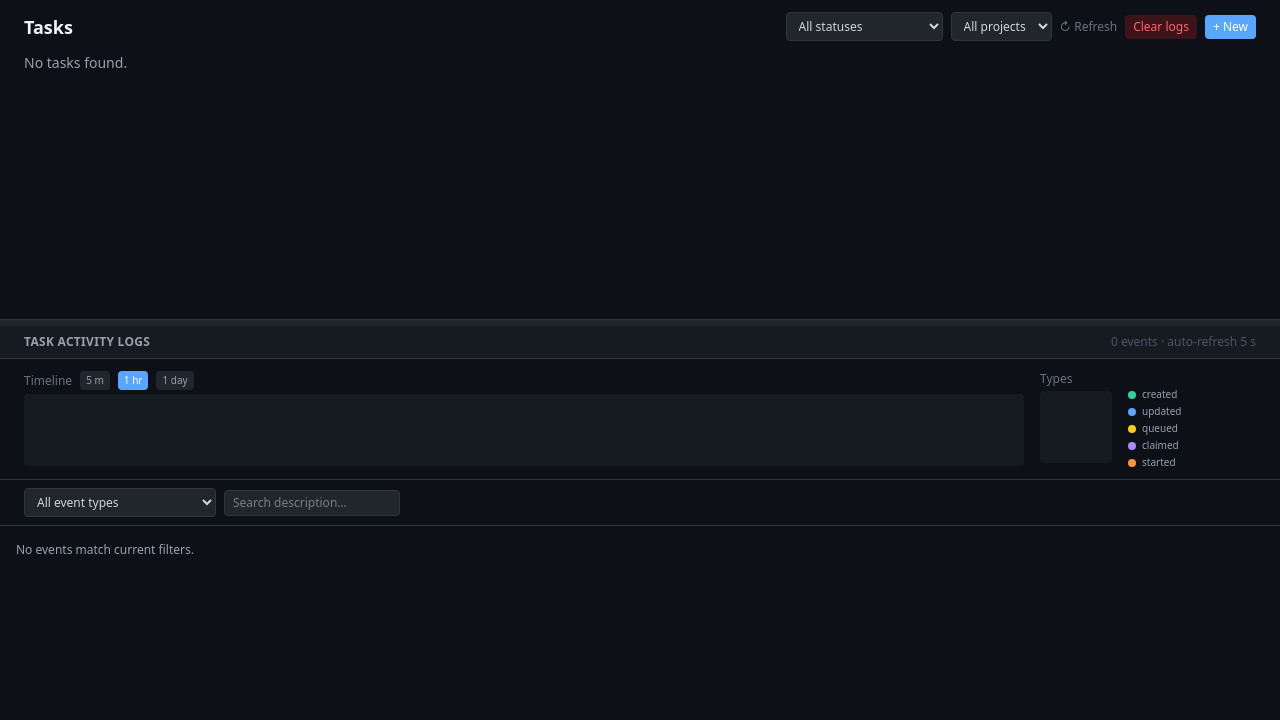
Tasks — create form › posts task with all required fields
Click the button "+ New": (1230, 26) [1205,14,1256,38]
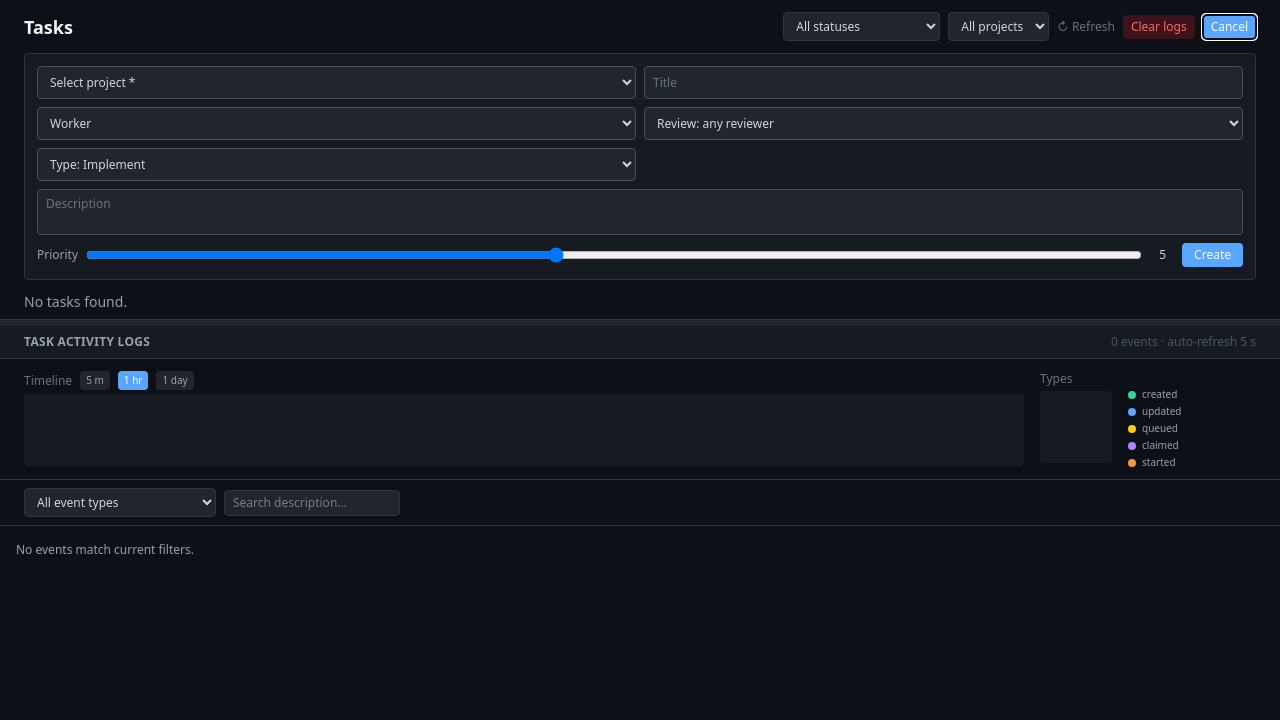
Select "MyProject" in the 3rd dropdown showing "Select project *": (336, 82) [37,66,636,99]
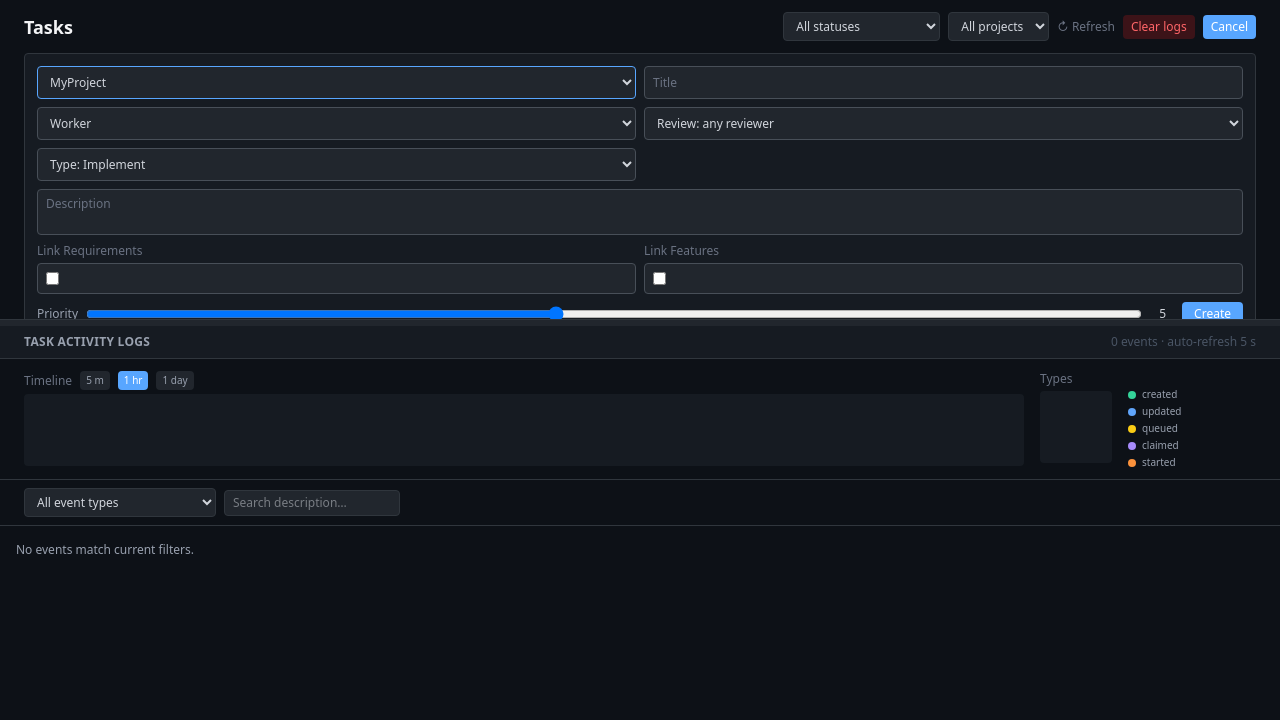
Select "Worker" in the dropdown named "Role": (336, 124) [37,107,636,140]
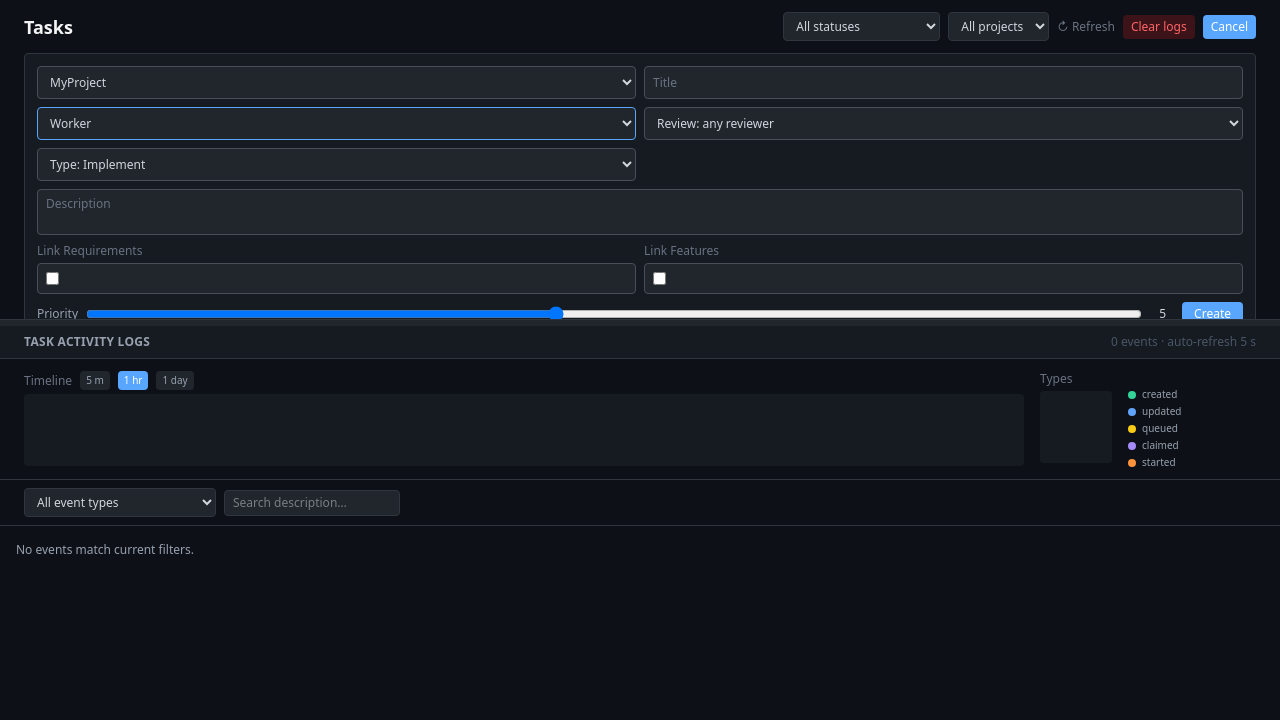
In the field with placeholder "Title": (944, 82) [644,66,1243,99], type "New task"
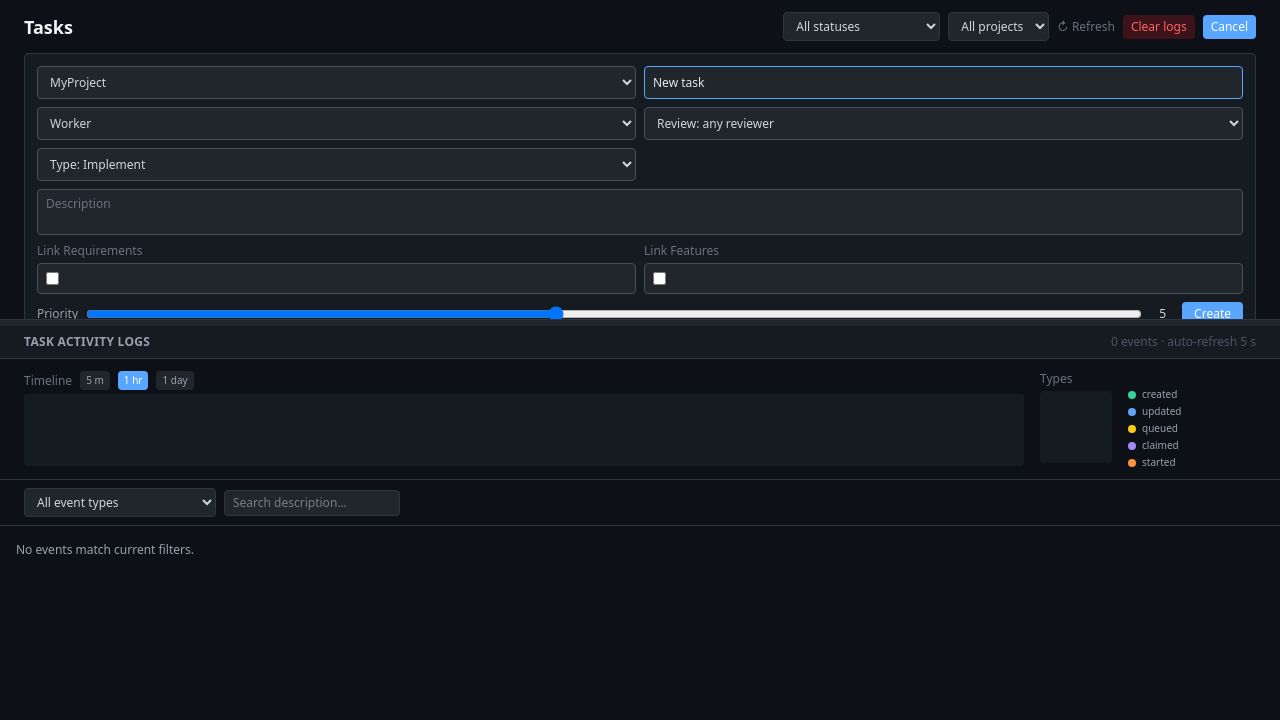
Click the button "Create": (1213, 314) [1182,302,1243,326]
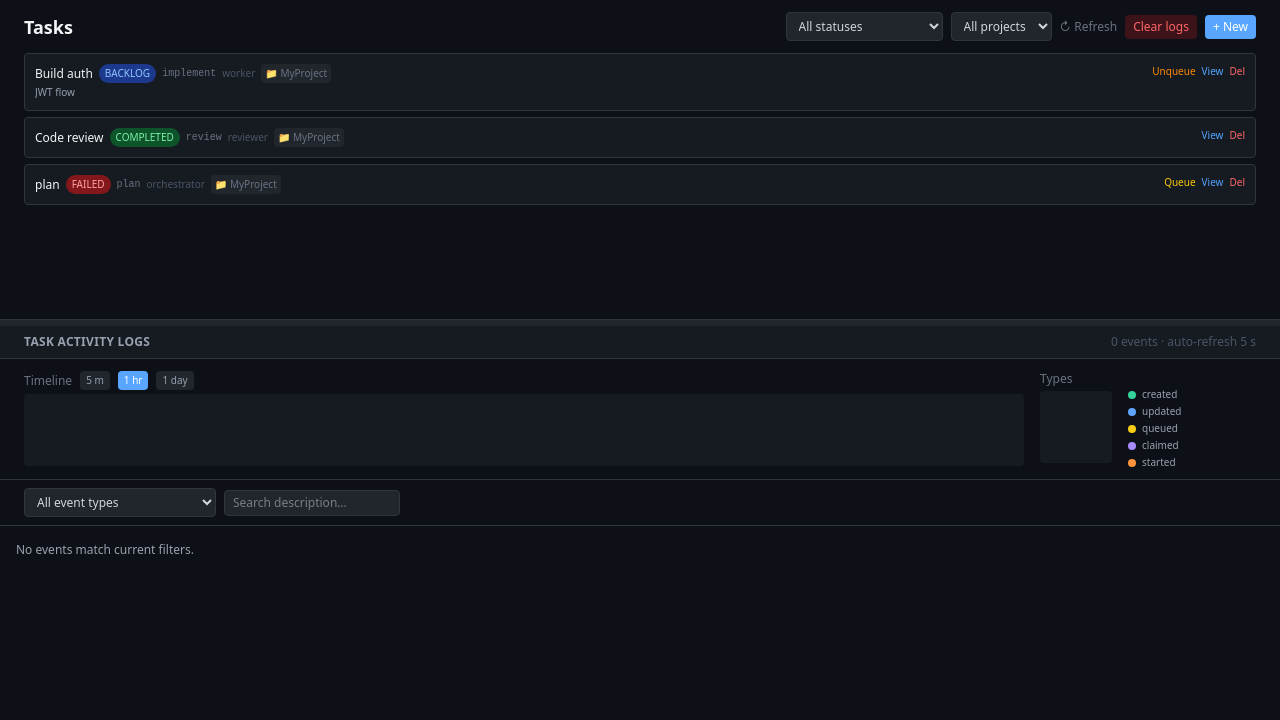
Now the text "worker" is shown, box [222,66,255,81]
